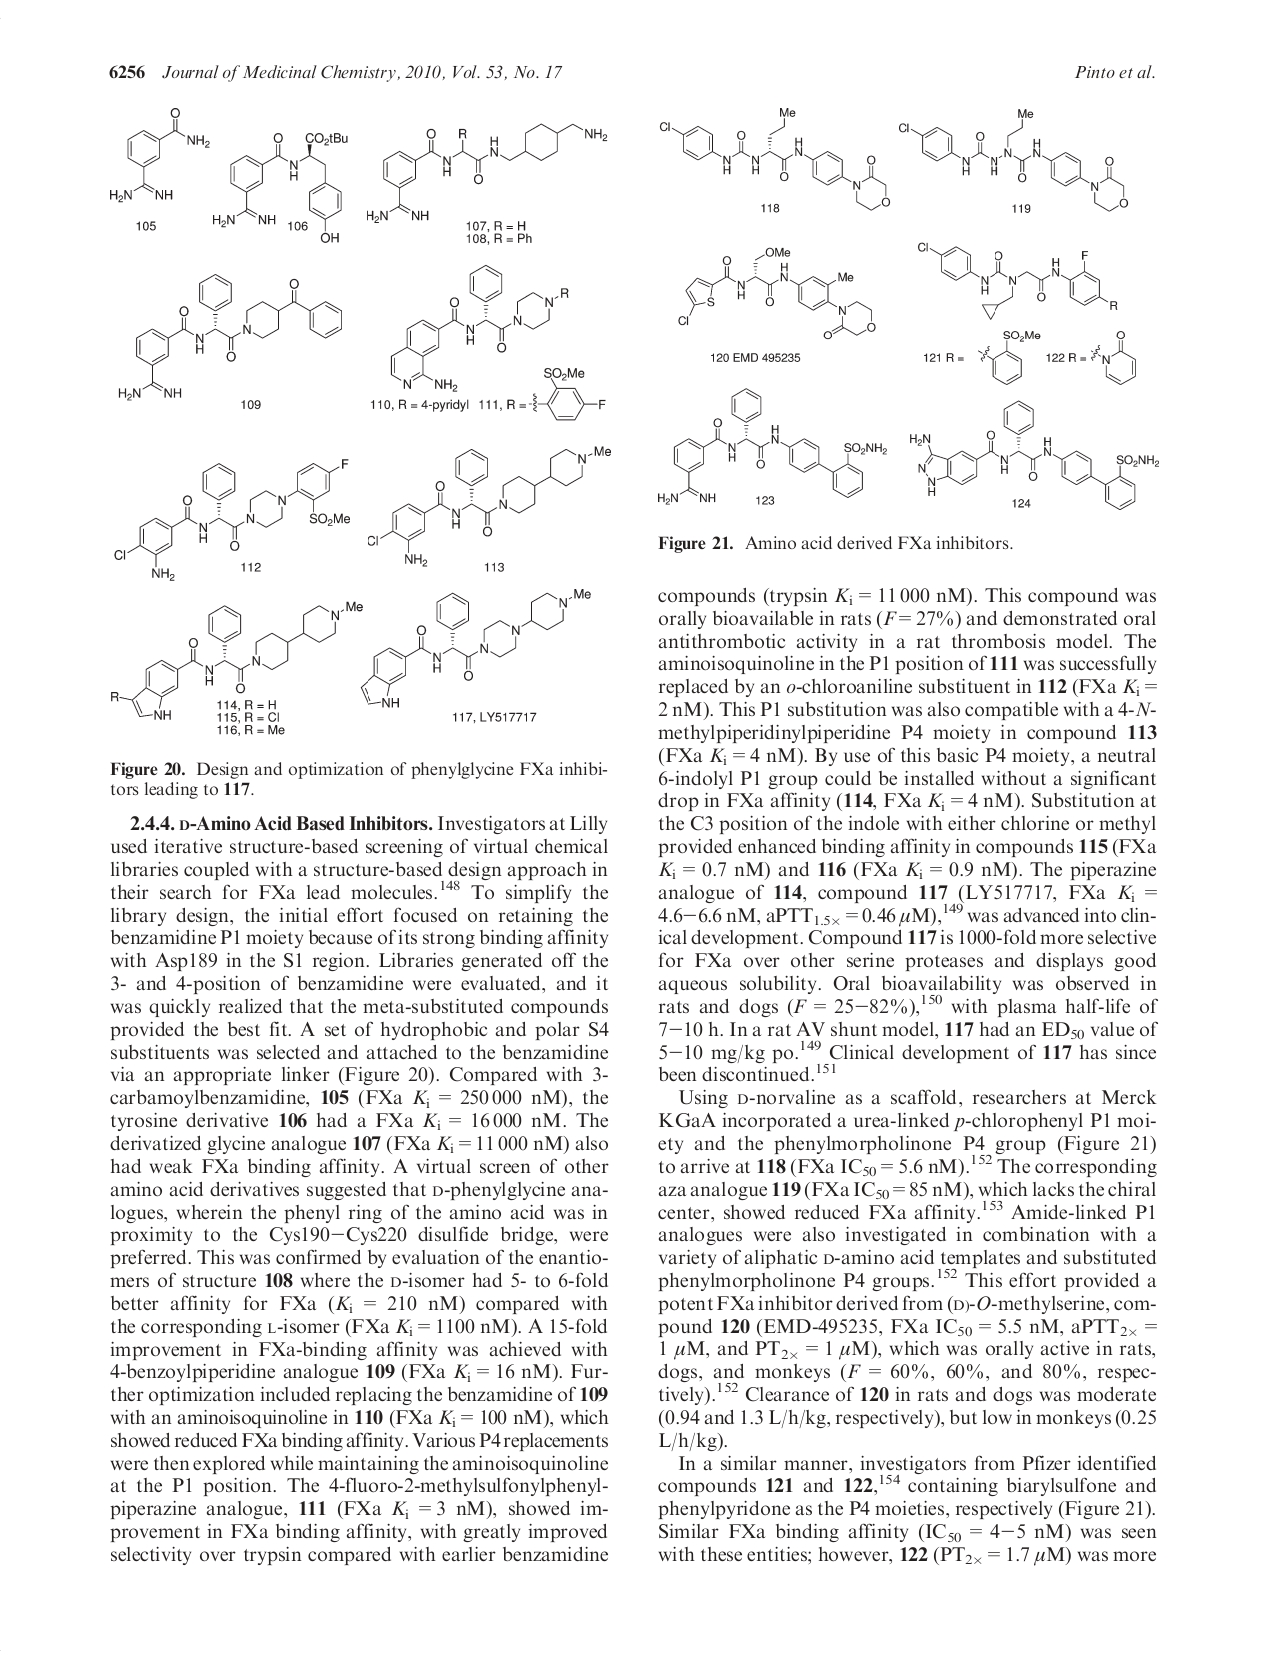exist_molecular: (106, 262, 346, 407), (109, 446, 359, 584), (106, 598, 366, 725), (363, 105, 618, 231), (360, 580, 598, 713), (902, 399, 1166, 516), (652, 380, 887, 508), (648, 101, 896, 217), (892, 114, 1133, 217), (387, 261, 574, 391), (668, 235, 883, 344), (914, 234, 1126, 324), (214, 124, 356, 245), (102, 98, 214, 214), (971, 328, 1044, 390), (1078, 328, 1138, 391)
